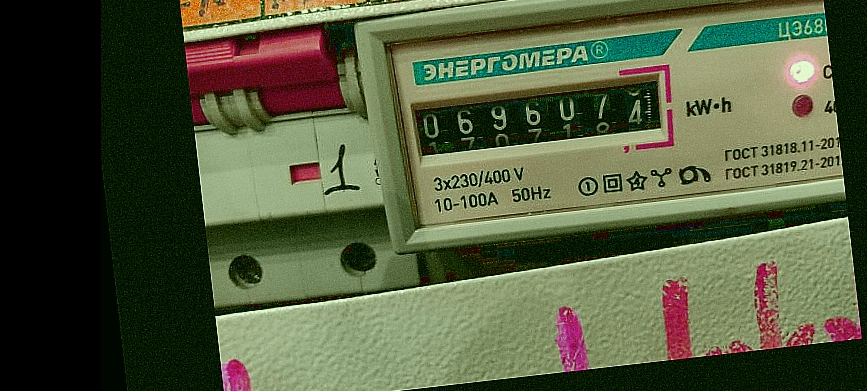0: (421, 109, 443, 140), (556, 92, 578, 121)
4: (625, 97, 646, 127)
6: (523, 96, 544, 126), (455, 106, 476, 135)
7: (591, 88, 613, 120)
9: (489, 102, 510, 132)
screen: (398, 59, 685, 177)
